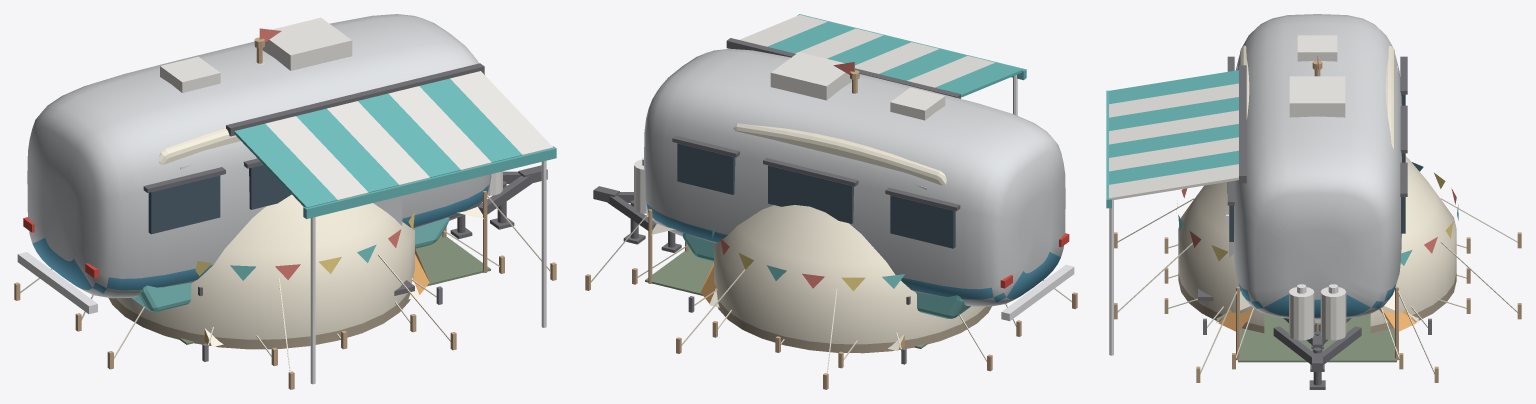
The model's file is campers.glb.
3 views of the same model, side by side, from view 1: azimuth 30°, elevation 25°; view 2: azimuth 150°, elevation 25°; view 3: azimuth 270°, elevation 25° (orthographic). The views are drawn at different scales.
Visible parts, largest first — view 1: airstream_body, bell_body, tentA_body, ham_body; view 2: airstream_body, bell_body, ham_body, tentA_body; view 3: airstream_body, bell_body, tentA_body, ham_body.
Boxes of the visible parts, bbox=[...] form: airstream_body: bbox=[17, 14, 556, 384]; bell_body: bbox=[14, 28, 504, 389]; tentA_body: bbox=[75, 191, 556, 366]; ham_body: bbox=[131, 127, 449, 311]; airstream_body: bbox=[593, 14, 1074, 321]; bell_body: bbox=[632, 62, 1077, 389]; ham_body: bbox=[682, 123, 970, 318]; tentA_body: bbox=[585, 209, 1021, 368]; airstream_body: bbox=[1106, 14, 1407, 389]; bell_body: bbox=[1114, 56, 1521, 369]; tentA_body: bbox=[1164, 237, 1470, 382]; ham_body: bbox=[1240, 45, 1394, 291].
Size of the model in its own units: 6.38 by 3.2 by 5.22.
